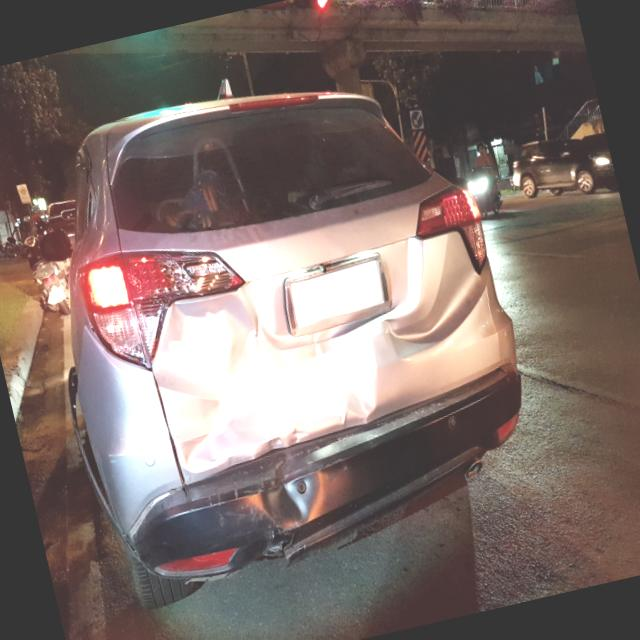Cabossage: (136, 255, 426, 479), (366, 252, 492, 374)
